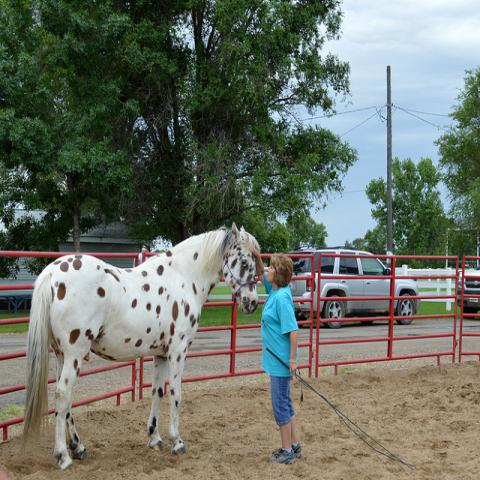car: (456, 266, 479, 318)
truck: (285, 248, 479, 332)
